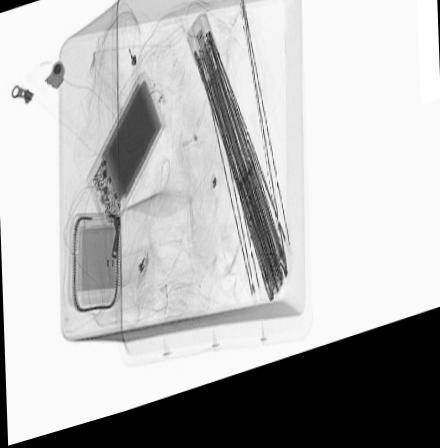Powerbank: (86, 71, 165, 248)
